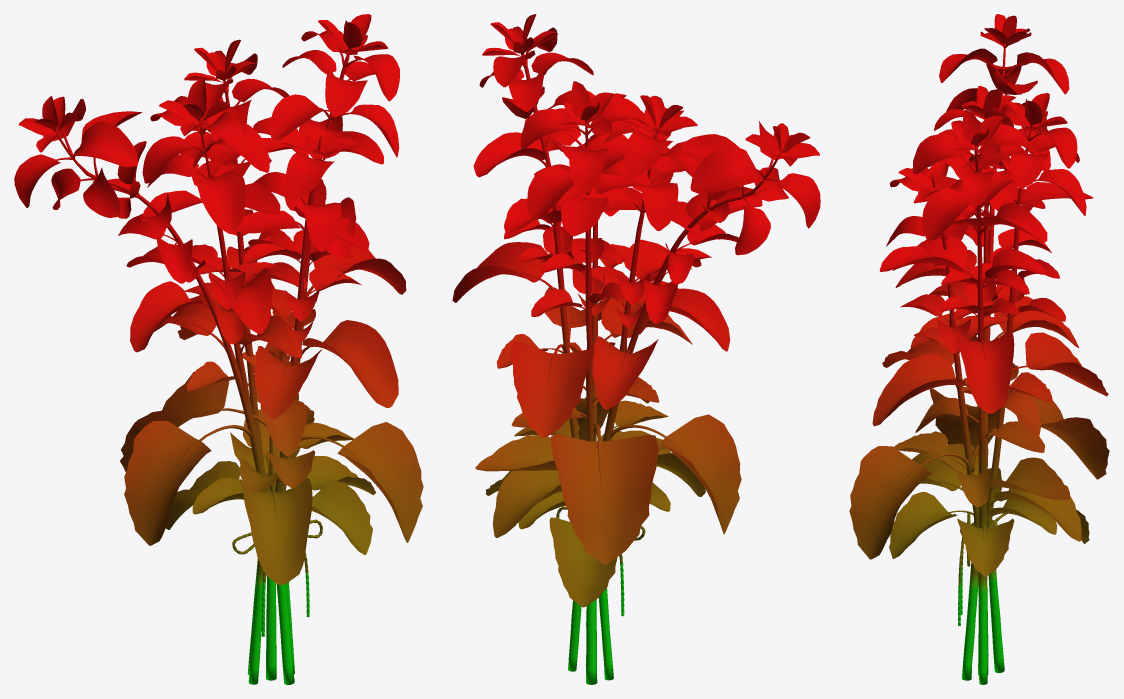
File: Lemon Balm_LOD0_Var7_umslacdia.fbx
3 renders of one model, left to right at view 1: azimuth 30°, elevation 25°; view 2: azimuth 150°, elevation 25°; view 3: azimuth 270°, elevation 25°, orthographic. The views are drawn at different scales.
Visible parts, largest first — view 1: _okw6_Var7_LOD0; view 2: _okw6_Var7_LOD0; view 3: _okw6_Var7_LOD0.
Part boxes in pixels (x1,y1,x2,y2): _okw6_Var7_LOD0: [14, 14, 423, 684]; _okw6_Var7_LOD0: [452, 14, 820, 684]; _okw6_Var7_LOD0: [849, 14, 1109, 684].
Size of the model in its own units: 16.92 by 28.3 by 11.21.
